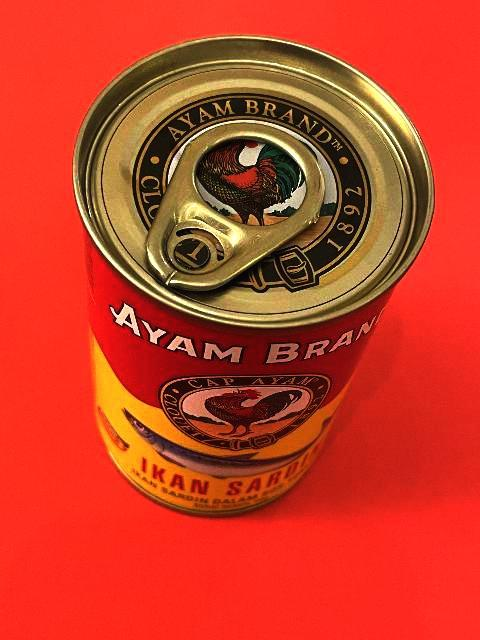foodcan: (71, 31, 437, 521)
